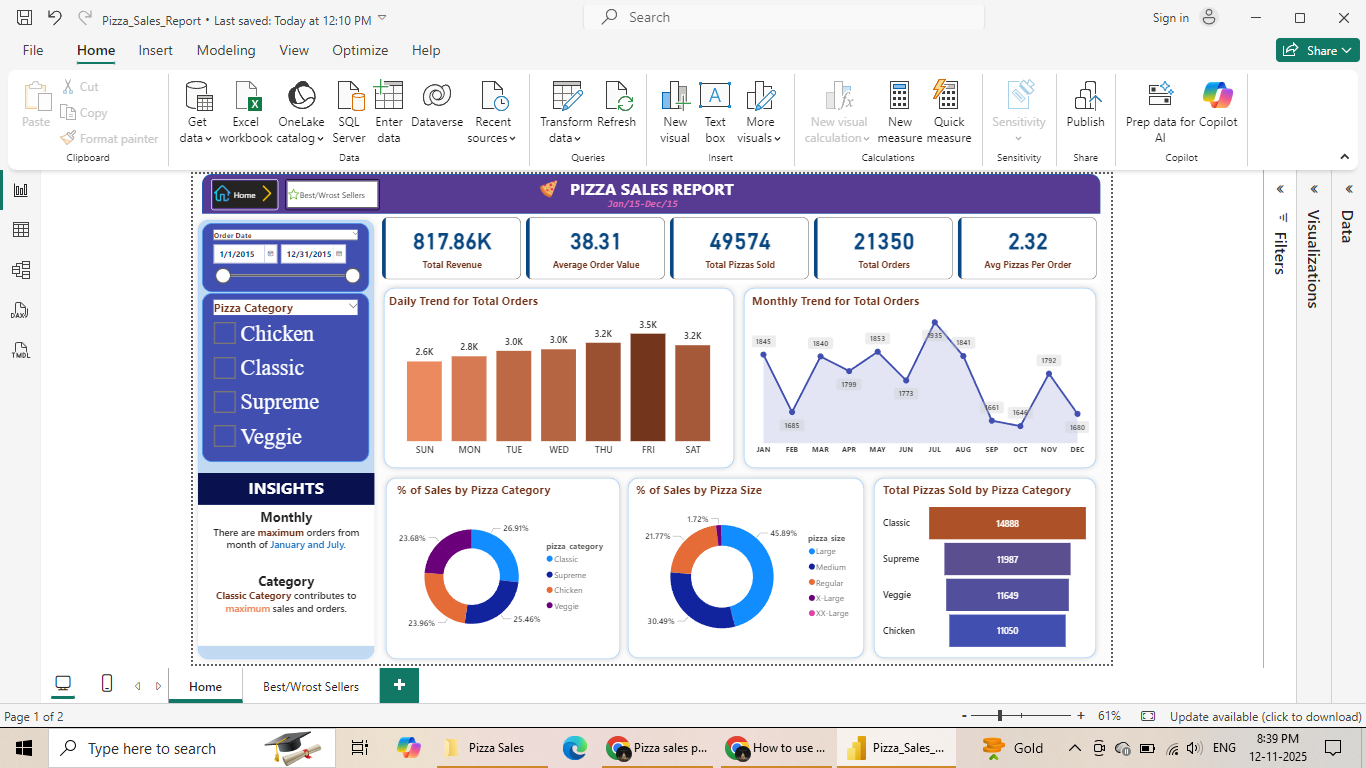

Layout of this report page (visuals, bound fields, positions):
{"tool":"powerbi","page":{"name":"Home","canvas":[1500,800],"ordinal":0},"visuals":[{"type":"cardVisual","fields":{"Data":["public pizzasales.Total Revenue","public pizzasales.Average Order Value","public pizzasales.Total Pizzas Sold","public pizzasales.Total Orders","public pizzasales.Avg Pizzas Per Order"]},"box":[303.7,65.3,1178.8,112.7],"z":0},{"type":"shape","box":[15,0,1466.7,65],"z":1000},{"type":"textbox","box":[605.7,0,287.3,47.3],"z":2000},{"type":"textbox","box":[644.9,34.3,178,32.7],"z":3000},{"type":"image","box":[542,4.9,76.7,39.2],"z":4000},{"type":"shape","box":[303.7,178,587.8,310.2],"z":5000},{"type":"columnChart","title":"Daily Trend for Total Orders","fields":{"Y":["public pizzasales.Total Orders"],"Category":["public pizzasales.Order day"]},"box":[315.1,194.3,564.9,275.9],"z":6000},{"type":"shape","box":[891.4,178,591,310.2],"z":7000},{"type":"areaChart","title":"Monthly Trend for Total Orders","fields":{"Y":["public pizzasales.Total Orders"],"Category":["public pizzasales.Order Month"]},"box":[907.8,194.3,560,274.3],"z":8000},{"type":"shape","box":[306.9,488.2,398.4,311.8],"z":9000},{"type":"shape","box":[702,488.2,401.6,310.2],"z":10000},{"type":"shape","box":[1103.7,488.2,378.8,310.2],"z":11000},{"type":"donutChart","title":"% of Sales by Pizza Category","fields":{"Category":["public pizzasales.pizza_category"],"Y":["public pizzasales.Total Revenue"]},"box":[328.2,502.9,362.4,284.1],"z":12000},{"type":"donutChart","title":"% of Sales by Pizza Size","fields":{"Y":["public pizzasales.Total Revenue"],"Category":["public pizzasales.pizza_size"]},"box":[718.4,502.9,370.6,284.1],"z":13000},{"type":"funnel","title":"Total Pizzas Sold by Pizza Category","fields":{"Category":["public pizzasales.pizza_category"],"Y":["public pizzasales.Total Pizzas Sold"]},"box":[1121.6,502.9,346.1,284.1],"z":14000},{"type":"shape","box":[0,66.9,303.7,733.1],"z":15000},{"type":"slicer","fields":{"Values":["public pizzasales.pizza_category"]},"box":[14.7,194.3,272.7,275.9],"z":16000},{"type":"slicer","fields":{"Values":["public pizzasales.order_date"]},"box":[14.9,80.6,273.1,113.4],"z":17000},{"type":"textbox","box":[7.5,488.1,288.1,52.2],"z":18000},{"type":"textbox","box":[7.5,540.3,288.1,229.9],"z":19000},{"type":"pageNavigator","box":[29.9,7.5,110.4,50.7],"z":20000},{"type":"pageNavigator","box":[150.7,9,155.2,50.7],"z":21000},{"type":"image","box":[29.9,10.4,37.3,43.3],"z":21001},{"type":"image","box":[101.5,13.4,38.8,37.3],"z":21002},{"type":"image","box":[150.7,10.4,28.4,46.3],"z":21003}]}

Visuals, with their boxes on the page's 1500x800 design canvas (x1, y1, x2, y2). These are canvas units, not pixel positions in the 1366x768 screenshot, which may show the page scaled, cropped or inside an application window:
cardVisual - public pizzasales.Total Revenue x public pizzasales.Average Order Value: rect(304, 65, 1482, 178)
shape: rect(15, 0, 1482, 65)
textbox: rect(606, 0, 893, 47)
textbox: rect(645, 34, 823, 67)
image: rect(542, 5, 619, 44)
shape: rect(304, 178, 892, 488)
"Daily Trend for Total Orders" columnChart: rect(315, 194, 880, 470)
shape: rect(891, 178, 1482, 488)
"Monthly Trend for Total Orders" areaChart: rect(908, 194, 1468, 469)
shape: rect(307, 488, 705, 800)
shape: rect(702, 488, 1104, 798)
shape: rect(1104, 488, 1482, 798)
"% of Sales by Pizza Category" donutChart: rect(328, 503, 691, 787)
"% of Sales by Pizza Size" donutChart: rect(718, 503, 1089, 787)
"Total Pizzas Sold by Pizza Category" funnel: rect(1122, 503, 1468, 787)
shape: rect(0, 67, 304, 800)
slicer - public pizzasales.pizza_category: rect(15, 194, 287, 470)
slicer - public pizzasales.order_date: rect(15, 81, 288, 194)
textbox: rect(8, 488, 296, 540)
textbox: rect(8, 540, 296, 770)
pageNavigator: rect(30, 8, 140, 58)
pageNavigator: rect(151, 9, 306, 60)
image: rect(30, 10, 67, 54)
image: rect(102, 13, 140, 51)
image: rect(151, 10, 179, 57)
